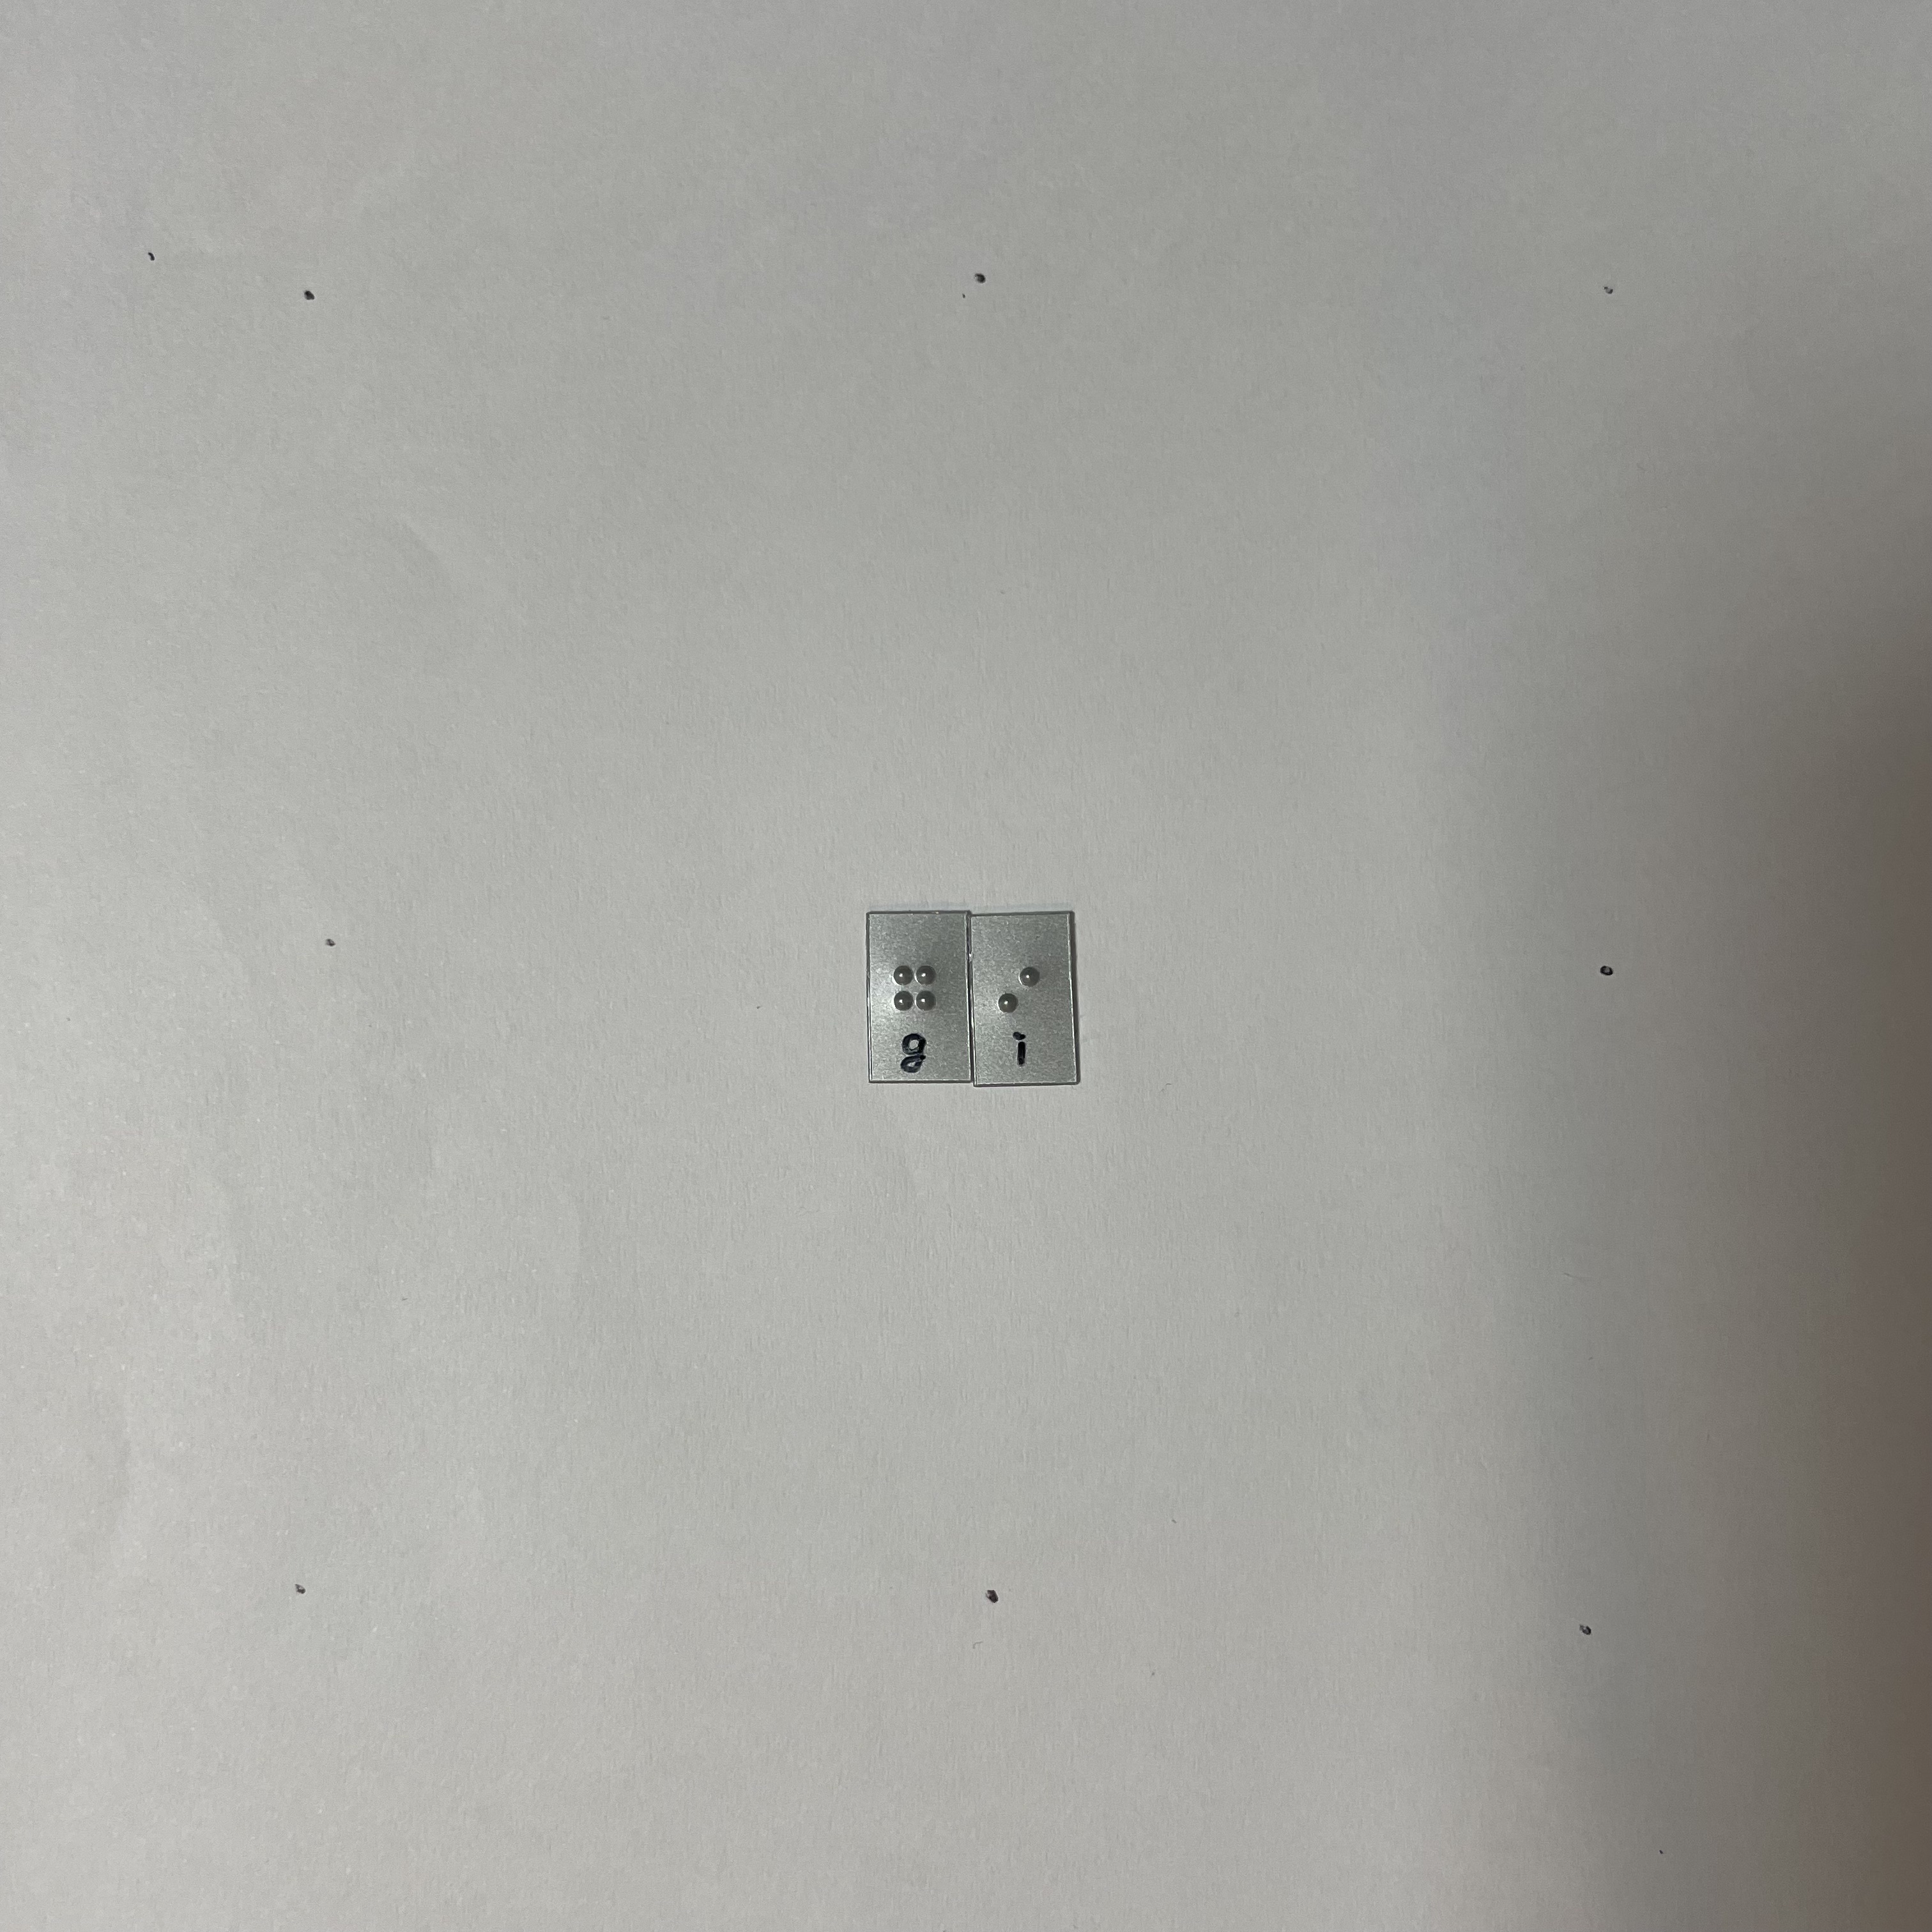g: (888, 956, 941, 1029)
i: (992, 958, 1049, 1033)
